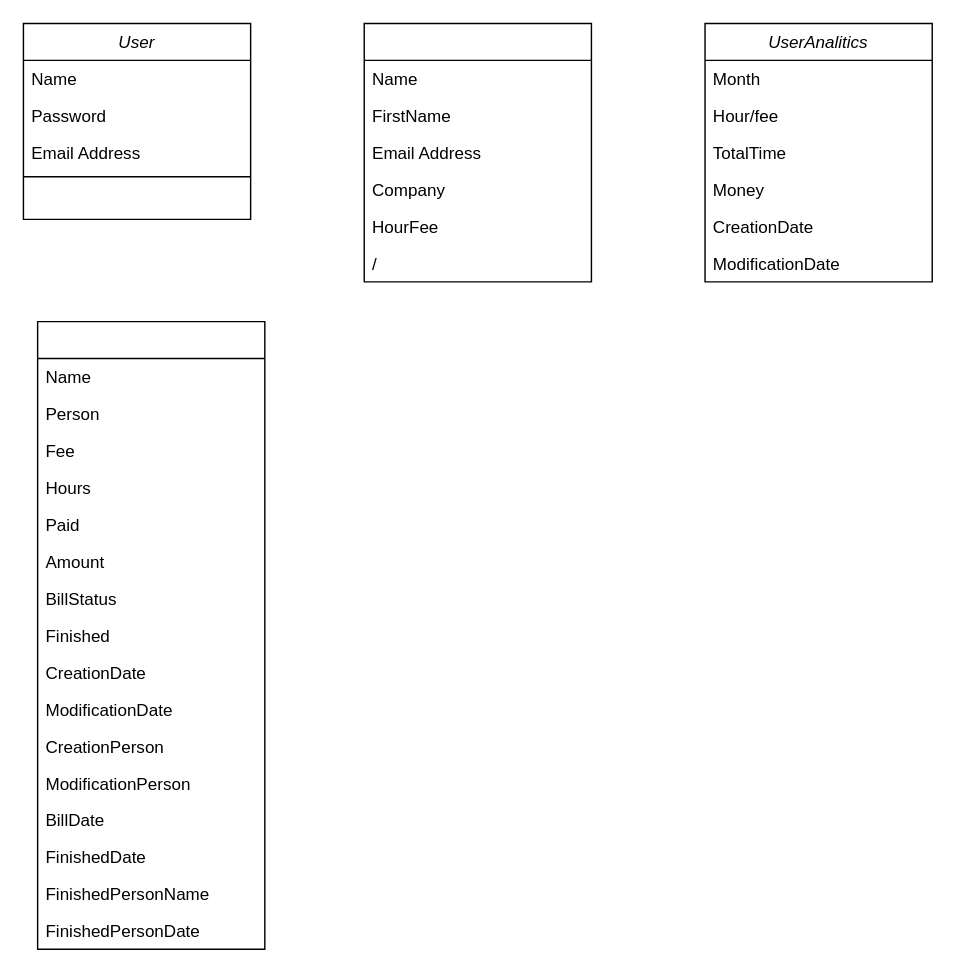
This 956x973 diagram has some shape labels left out. Here are the shapes that lost their labels. From the top down, the box of each, then its label:
(363, 22, 591, 282): UserData
(36, 320, 265, 949): ProjectPhase
